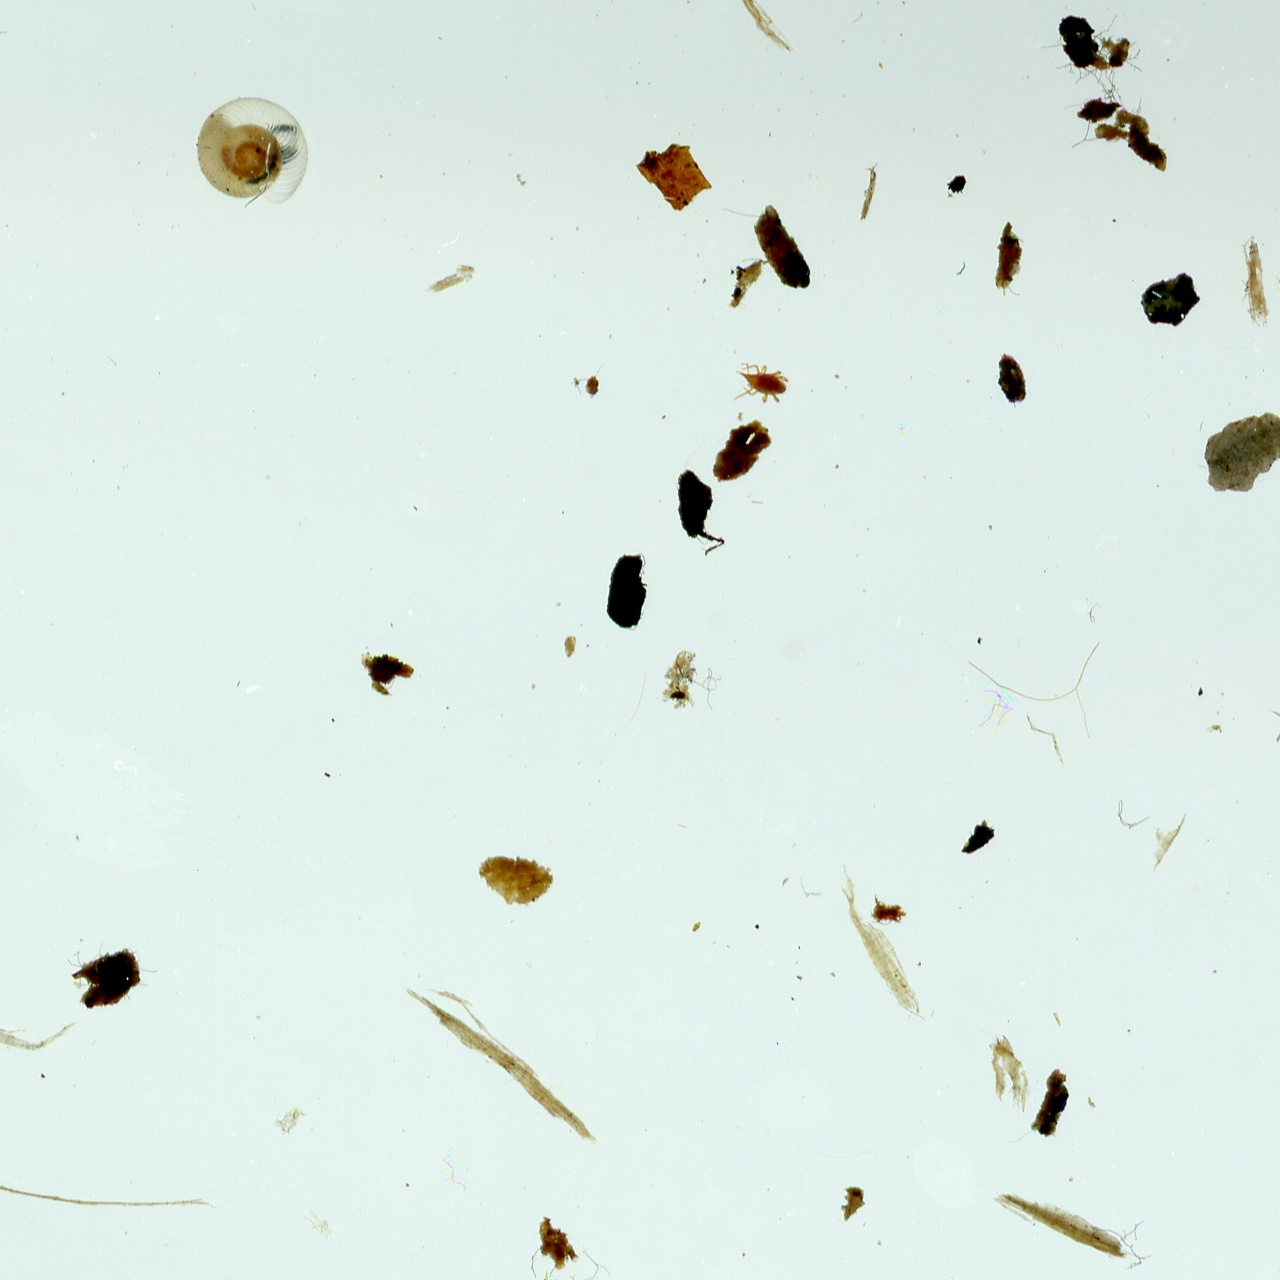arthropod: (194, 93, 313, 210), (729, 360, 790, 406)
